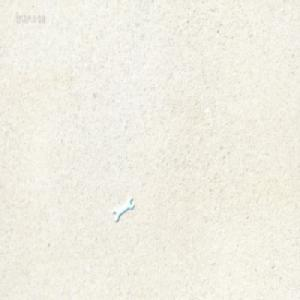Wrench: (112, 196, 134, 222)
